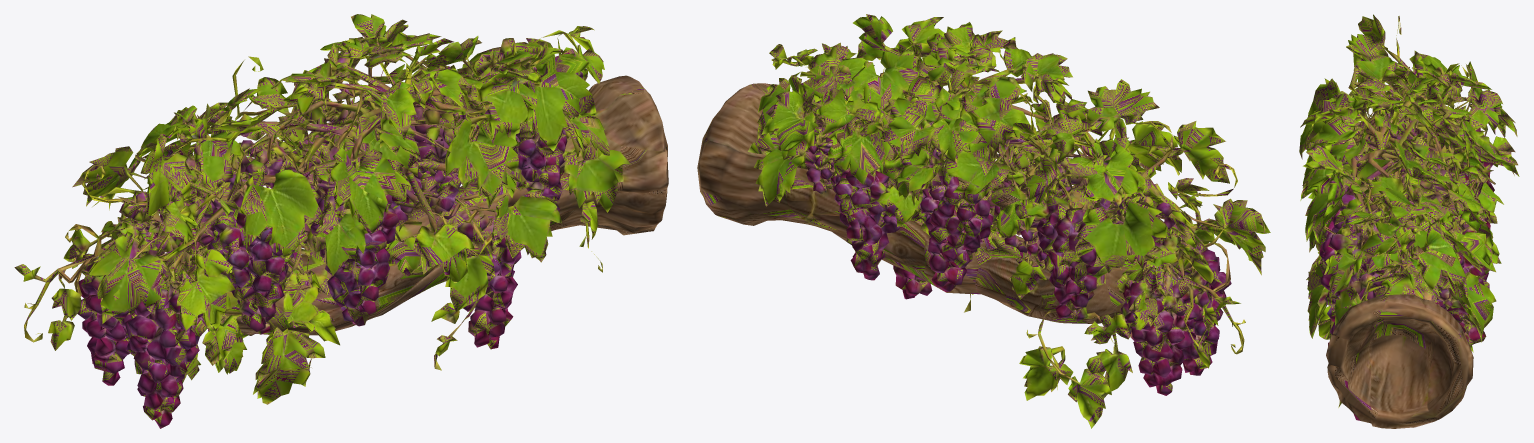
Rendered from branch_grape.glb.
3 views of the same model, side by side, from view 1: azimuth 30°, elevation 25°; view 2: azimuth 150°, elevation 25°; view 3: azimuth 270°, elevation 25° (orthographic). The views are drawn at different scales.
Bounding box in the file's own units: 1.9 × 1.09 × 0.6625.
1 material, 1 textured.
